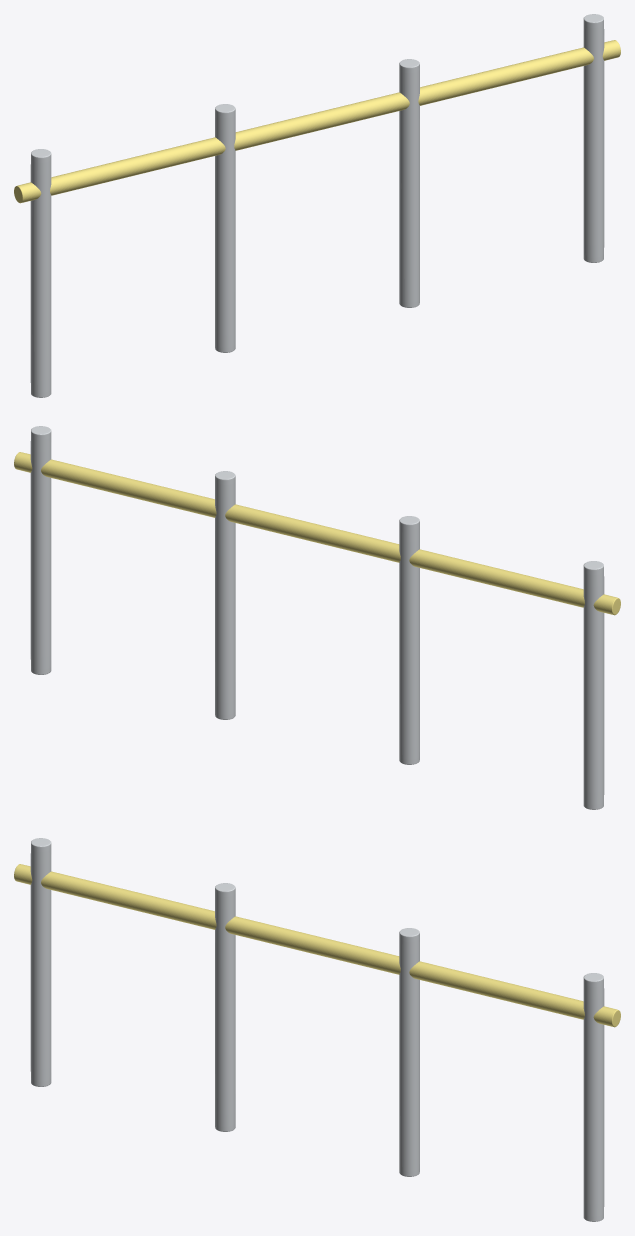
Rendered from Toy_Fence_Hi_000351.fbx.
The picture shows the model from 3 angles, top to bottom: view 1: azimuth 30°, elevation 25°; view 2: azimuth 150°, elevation 25°; view 3: azimuth 330°, elevation 25°; orthographic projection.
Visible parts, largest first — view 1: Cylinder.004, Cylinder, Cylinder.003, Cylinder.001, Cylinder.002; view 2: Cylinder.004, Cylinder, Cylinder.003, Cylinder.001, Cylinder.002; view 3: Cylinder.004, Cylinder, Cylinder.003, Cylinder.002, Cylinder.001.
Boxes of the visible parts, box(x1,y1,x2,y2) form: Cylinder.004: box(14, 40, 620, 203); Cylinder: box(30, 149, 51, 397); Cylinder.003: box(583, 14, 604, 262); Cylinder.001: box(215, 104, 235, 352); Cylinder.002: box(399, 59, 419, 307); Cylinder.004: box(14, 452, 620, 615); Cylinder: box(583, 561, 604, 809); Cylinder.003: box(30, 426, 51, 674); Cylinder.001: box(399, 516, 419, 764); Cylinder.002: box(215, 471, 235, 719); Cylinder.004: box(14, 864, 620, 1027); Cylinder: box(30, 838, 51, 1086); Cylinder.003: box(583, 973, 604, 1221); Cylinder.002: box(399, 928, 419, 1176); Cylinder.001: box(215, 883, 235, 1131).
Size of the model in its own units: 2.6 by 1 by 0.0779.
